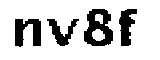8: (83, 7, 116, 49)
f: (118, 8, 141, 49)
n: (10, 14, 45, 51)
v: (46, 16, 81, 50)
